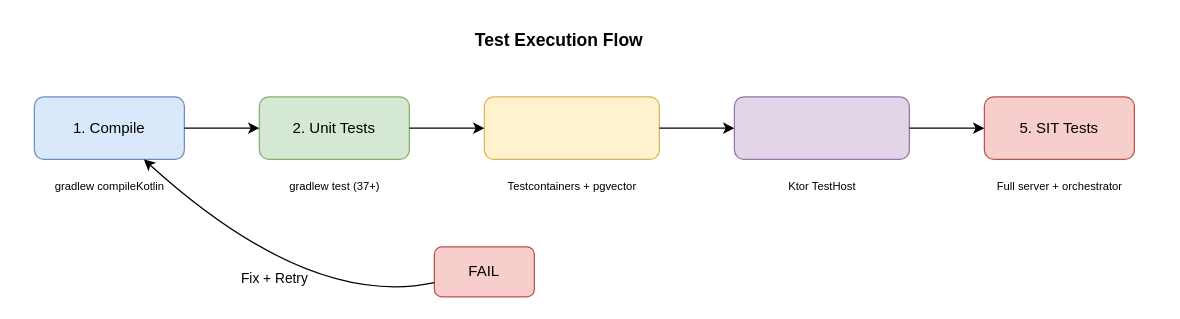
Image size: 1180x319. Some labels were removed from this diagram. The box of each missing label's shape, as (x1, y1, x2, y2) in pixels:
3. Integration Tests: (483, 96, 659, 159)
4. E2E-API Tests: (733, 96, 909, 159)
